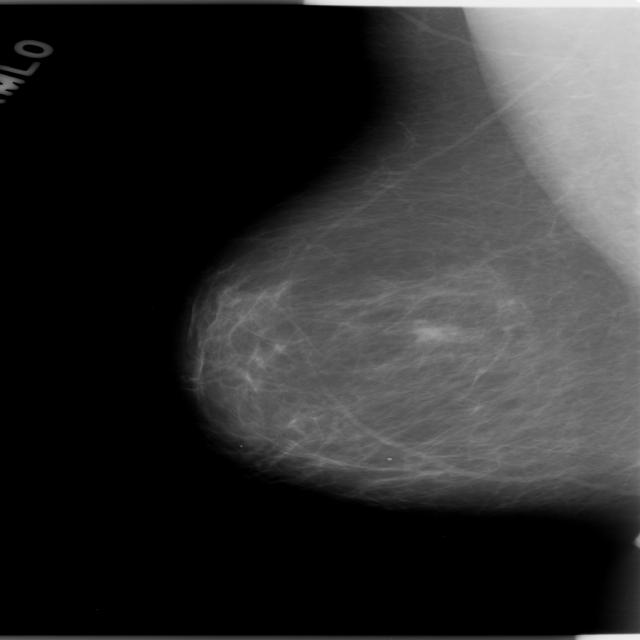normal: (175, 0, 640, 504)
